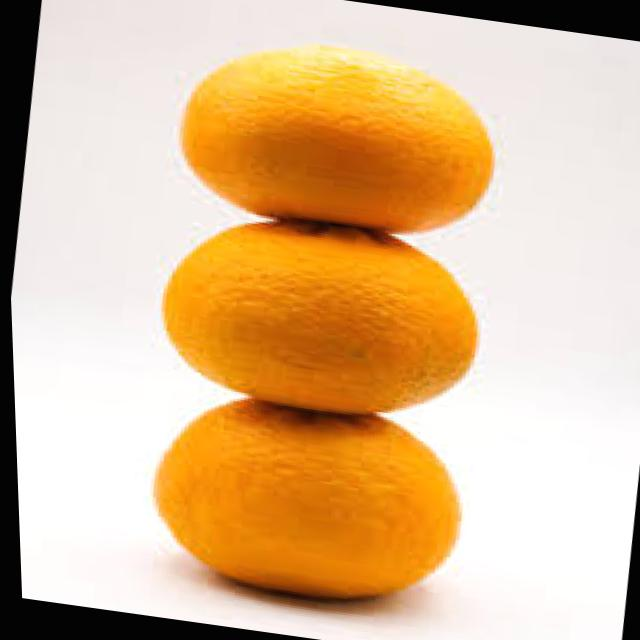orange: (166, 25, 507, 250), (148, 206, 490, 430), (135, 384, 468, 614)
